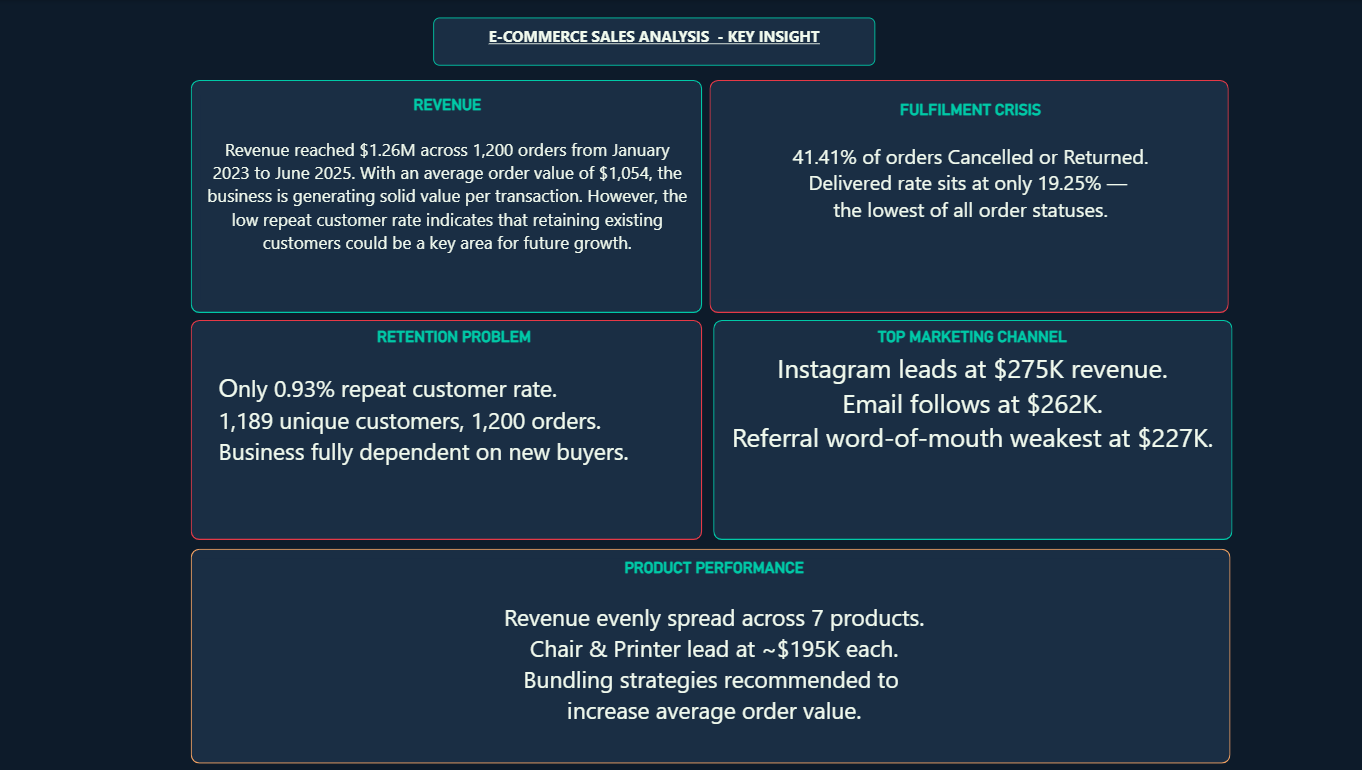

This screenshot's page, from the dashboard's own definition file:
{"tool":"powerbi","page":{"name":"Insight","canvas":[1280,720],"ordinal":1},"visuals":[{"type":"shape","box":[180.4,73.8,475.7,216.7],"z":0},{"type":"shape","box":[180.4,297.8,475.7,204.6],"z":1000},{"type":"shape","box":[665.8,297.8,483,204.6],"z":2000},{"type":"shape","box":[663.4,73.8,483,216.7],"z":3000},{"type":"shape","box":[180.4,510.8,967.2,199.7],"z":4000},{"type":"textbox","title":"REVENUE","box":[190,88.4,458.8,190],"z":5000},{"type":"textbox","title":" FULFILMENT CRISIS ","box":[675.5,93.2,460,185.2],"z":6000},{"type":"textbox","title":"PRODUCT PERFORMANCE","box":[188.8,519.3,957.5,184],"z":7000},{"type":"textbox","title":"RETENTION PROBLEM","box":[200.9,305,447.9,191.3],"z":8000},{"type":"textbox","title":"TOP MARKETING CHANNEL","box":[675.5,305,463.6,191.3],"z":9000},{"type":"textbox","box":[405.5,15.7,411.6,44.8],"z":10000}]}

Visuals, with their boxes in screenshot pixels (x1, y1, x2, y2), scaled from the page's 1280x720 canvas onto the 1362x770 screenshot:
shape: <box>192,79,698,311</box>
shape: <box>192,318,698,537</box>
shape: <box>708,318,1222,537</box>
shape: <box>706,79,1220,311</box>
shape: <box>192,546,1221,760</box>
"REVENUE" textbox: <box>202,95,690,298</box>
" FULFILMENT CRISIS " textbox: <box>719,100,1208,298</box>
"PRODUCT PERFORMANCE" textbox: <box>201,555,1220,752</box>
"RETENTION PROBLEM" textbox: <box>214,326,690,531</box>
"TOP MARKETING CHANNEL" textbox: <box>719,326,1212,531</box>
textbox: <box>431,17,869,65</box>
